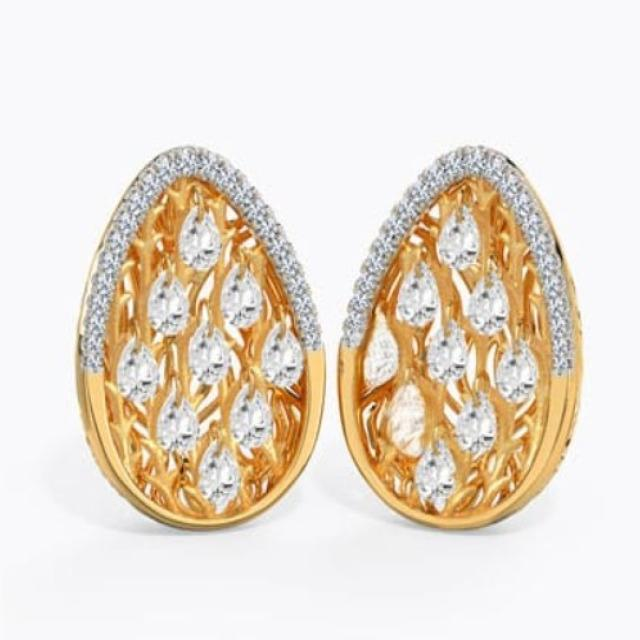missing gem: (381, 384, 427, 457), (362, 307, 399, 396)
